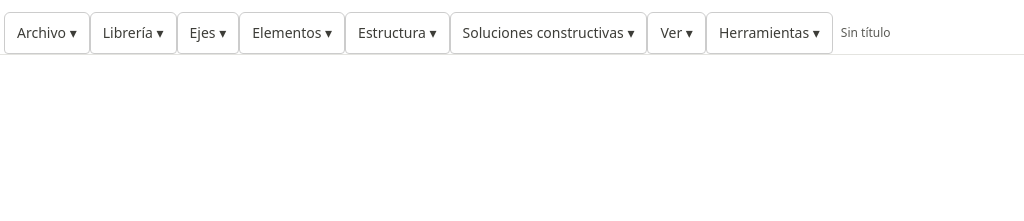
Test: BUG-016-A-020 RED: Estructura conserva sus herramientas y no contiene Escenarios
Click the button "Estructura ▾".
click(397, 33)  # box [345,12,450,54]
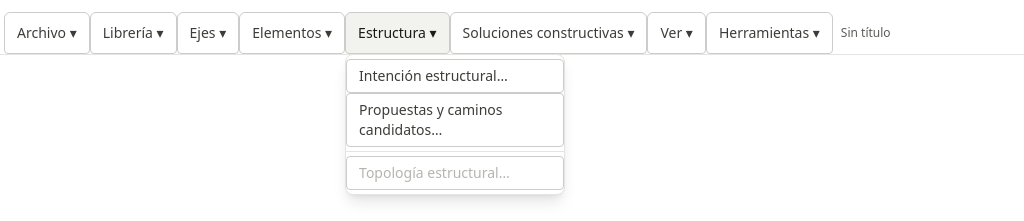
Now the button "Intención estructural…" is shown, box [346,59,564,93]
Now the button "Propuestas y caminos candidatos…" is shown, box [346,93,564,147]
Now the button "Topología estructural…" is shown, box [346,156,564,190]
